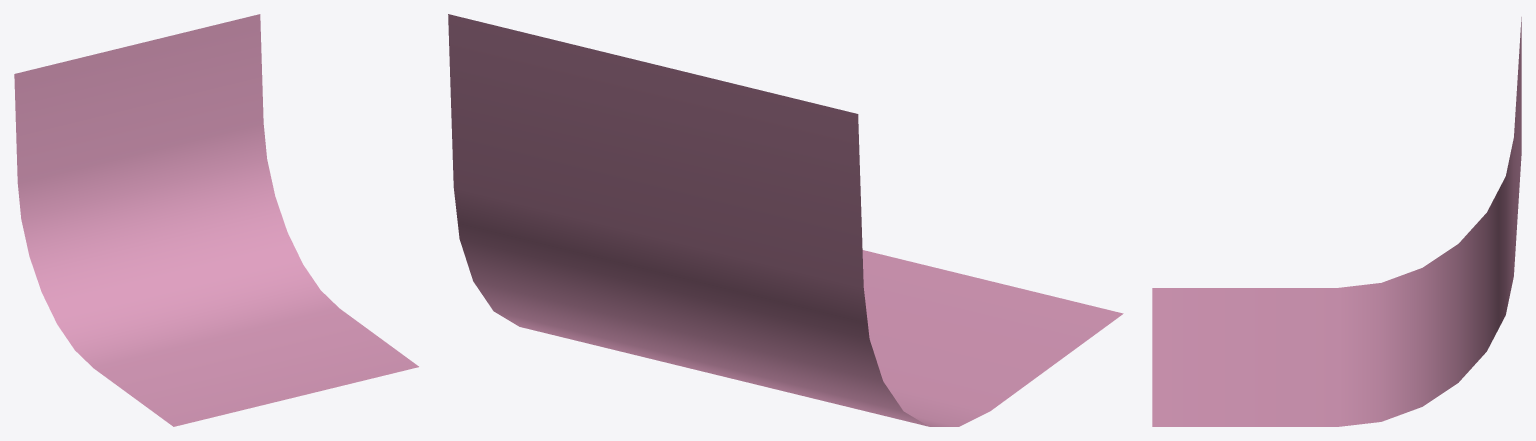
The model's file is bg_dropoff-compressed.glb.
The picture shows the model from 3 angles, left to right: view 1: azimuth 30°, elevation 25°; view 2: azimuth 150°, elevation 25°; view 3: azimuth 270°, elevation 25°; orthographic projection. The views are drawn at different scales.
Parts seen in each view (by area): view 1: drop off; view 2: drop off; view 3: drop off.
Part boxes in pixels (bbox=[...]): drop off: bbox=[14, 14, 418, 426]; drop off: bbox=[448, 14, 1123, 426]; drop off: bbox=[1152, 17, 1521, 426].
Bounding box in the file's own units: 109 × 100 × 123.
